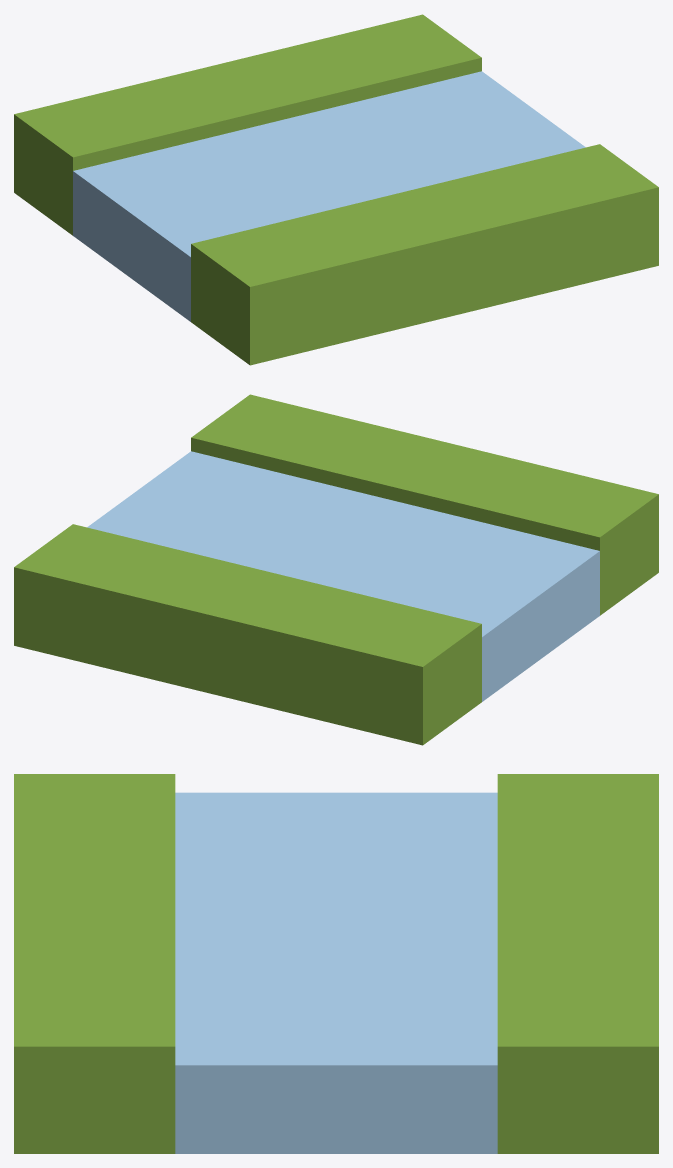
File: tile078.fbx
The picture shows the model from 3 angles, top to bottom: view 1: azimuth 30°, elevation 25°; view 2: azimuth 150°, elevation 25°; view 3: azimuth 270°, elevation 25°; orthographic projection. The views are drawn at different scales.
Visible parts, largest first — view 1: tile078; view 2: tile078; view 3: tile078.
Part boxes in pixels (x1,y1,x2,y2): tile078: (14,14,658,365); tile078: (14,394,658,745); tile078: (14,774,658,1153).
Bounding box in the file's own units: 10 × 1.83 × 10.
